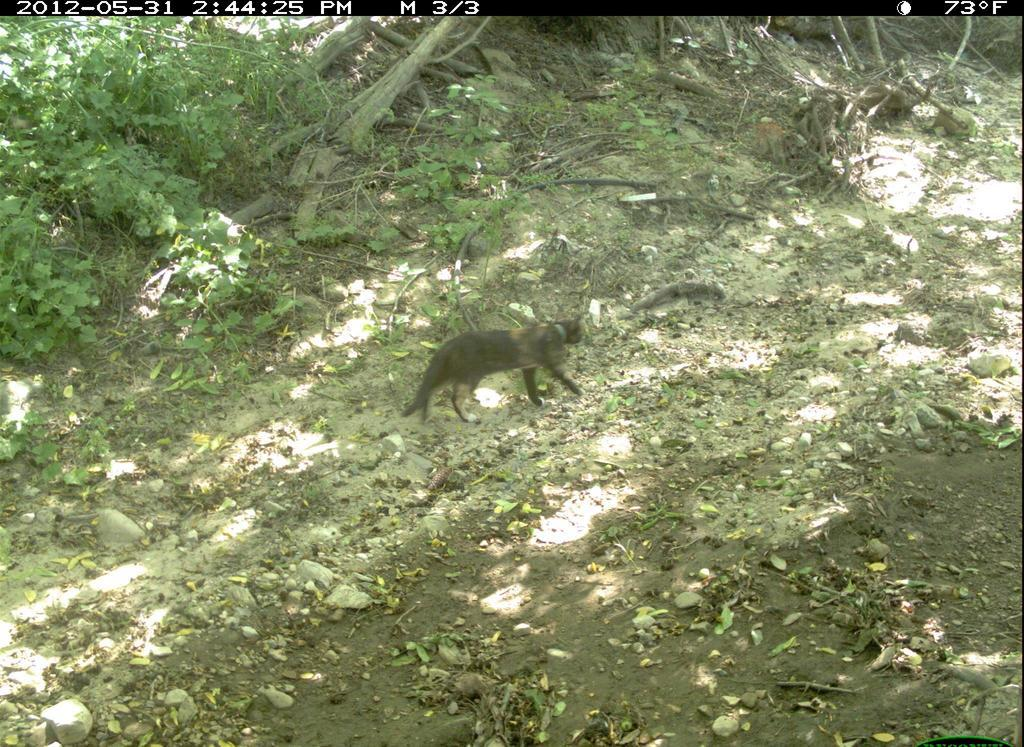cat: (396, 304, 614, 436)
